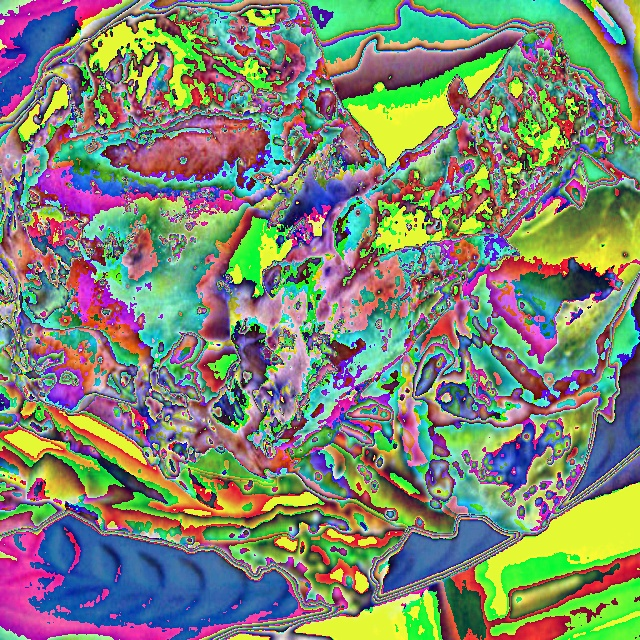background: (0, 4, 640, 618)
